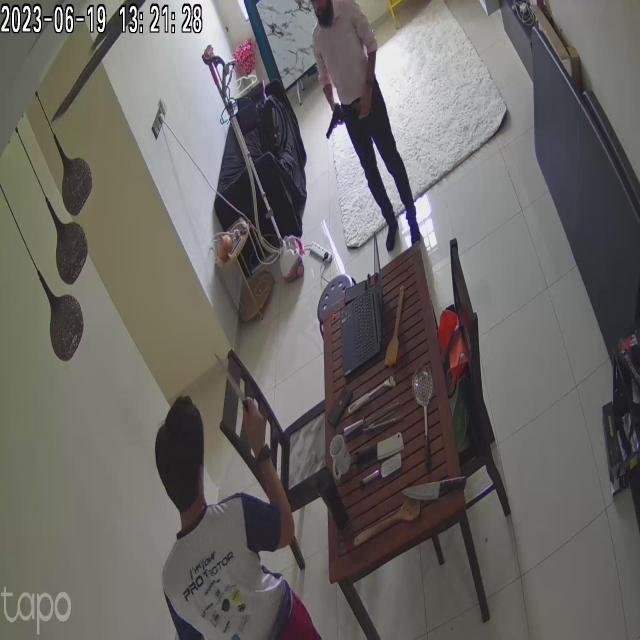Gun: (317, 101, 358, 149)
Knife: (219, 345, 258, 415), (400, 472, 470, 507)
